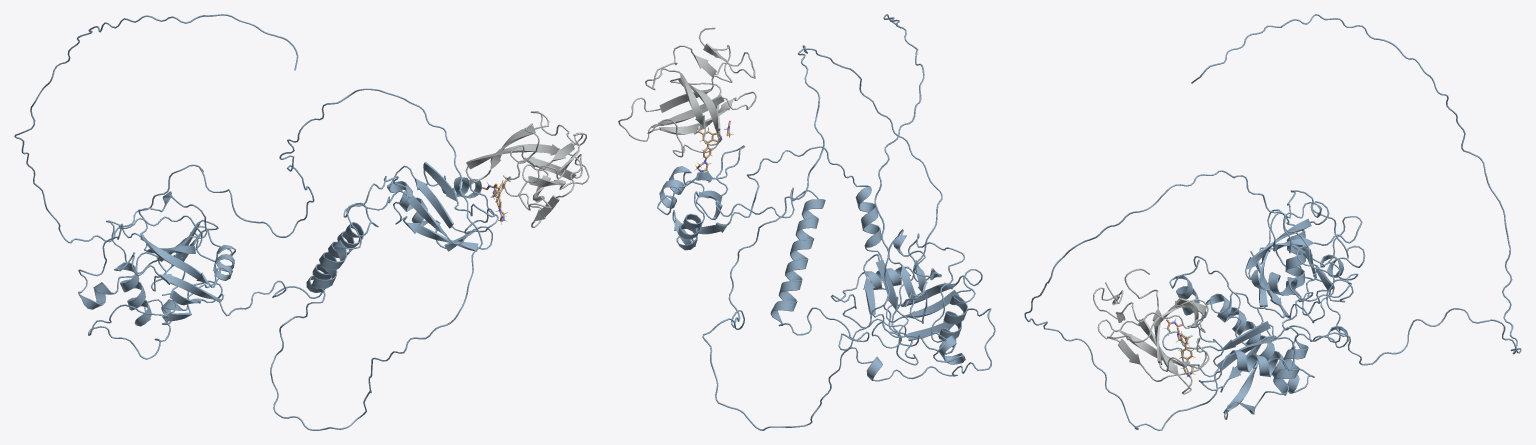
The picture shows the model from 3 angles, left to right: view 1: azimuth 30°, elevation 25°; view 2: azimuth 150°, elevation 25°; view 3: azimuth 270°, elevation 25°; orthographic projection. The views are drawn at different scales.
Visible parts, largest first — view 1: node-geom96, node-geom97; view 2: node-geom96, node-geom97; view 3: node-geom96, node-geom97.
Boxes of the visible parts, left/top/right/bottom form: node-geom96: left=78, top=111, right=589, bottom=359; node-geom97: left=14, top=14, right=498, bottom=430; node-geom96: left=618, top=27, right=995, bottom=381; node-geom97: left=657, top=14, right=942, bottom=430; node-geom96: left=1093, top=190, right=1365, bottom=394; node-geom97: left=1024, top=14, right=1521, bottom=430.
Bounding box in the file's own units: 126 × 106 × 126.
